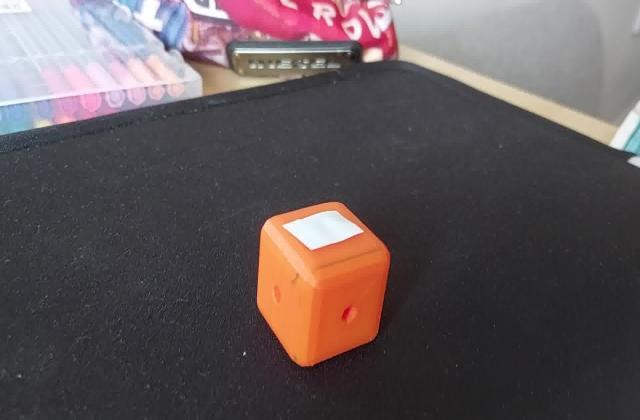cube: (250, 195, 393, 369)
white: (284, 215, 356, 256)
